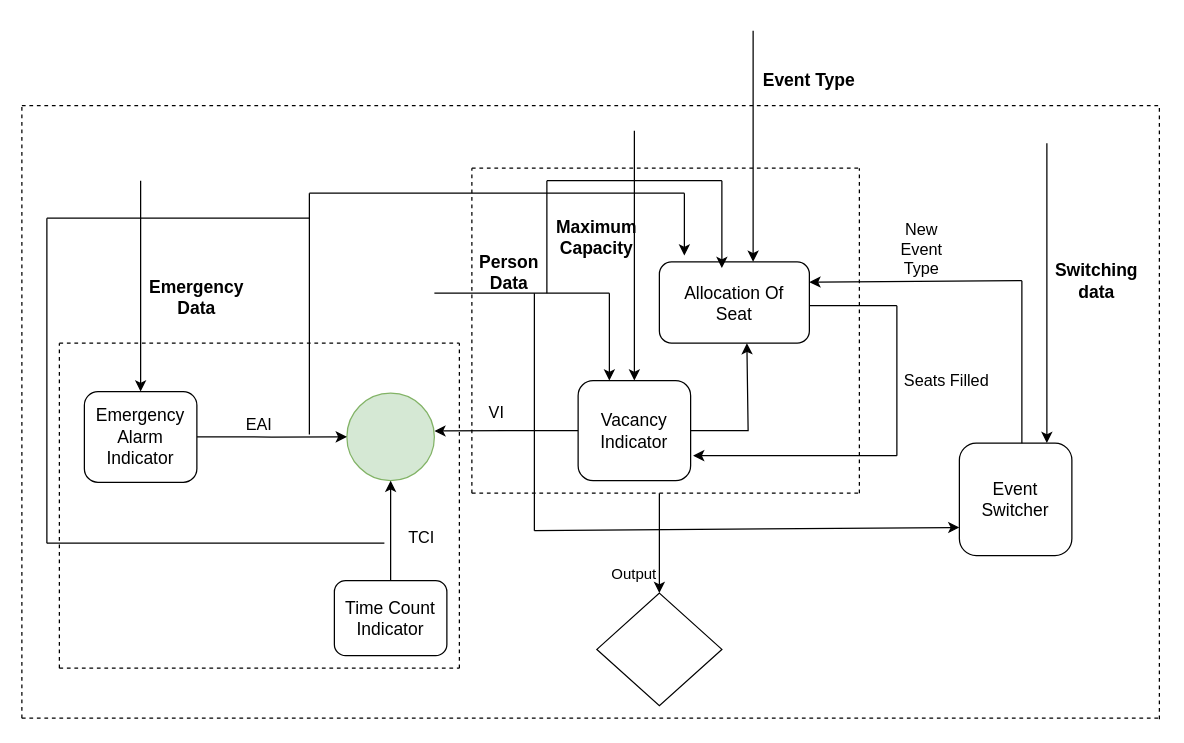
Image size: 1184x743. Some labels were removed from this diagram. Here are the shapes that lost their labels. From the top down, the centre of each, then its label:
point 390,436: LED Indicator
point 659,649: Participant Count
